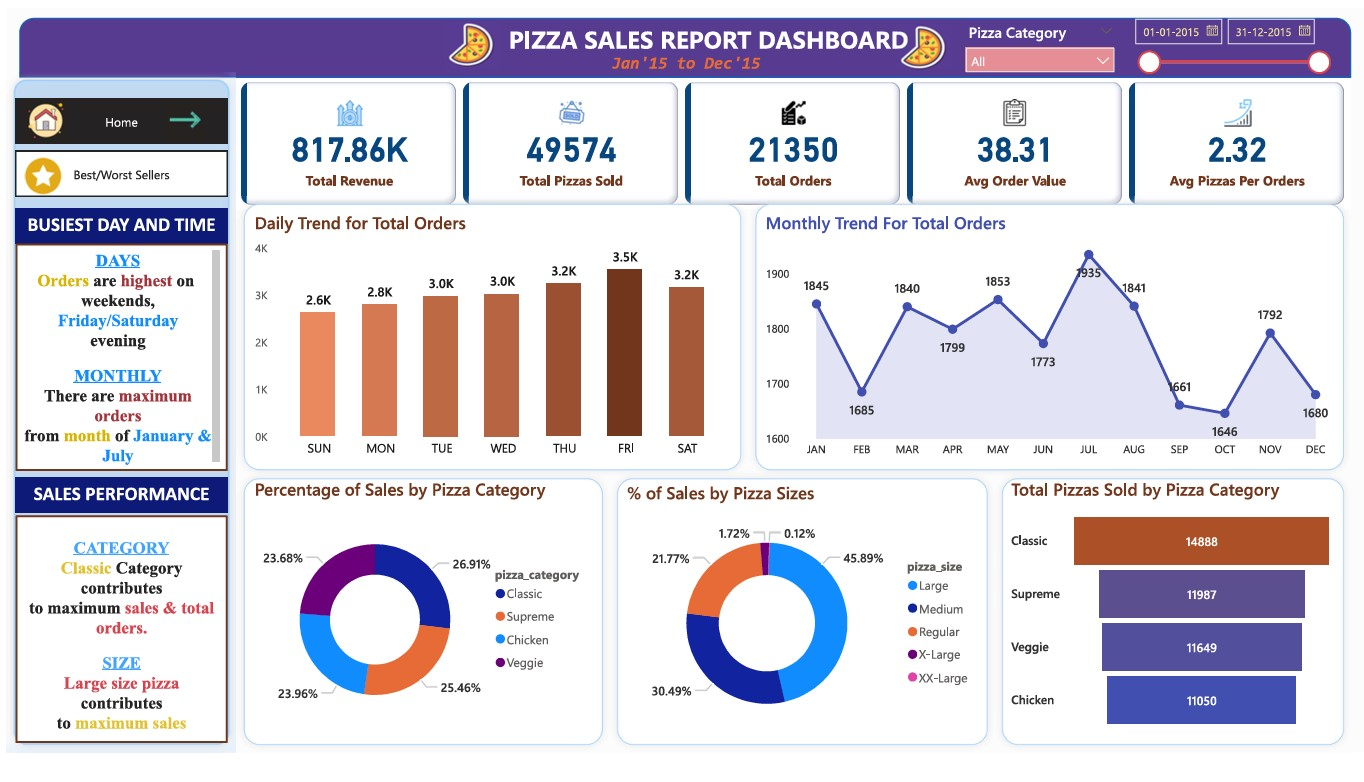

The dashboard page shown, as its layout file describes it:
{"tool":"powerbi","page":{"name":"Home","canvas":[1500,820],"ordinal":0},"visuals":[{"type":"cardVisual","fields":{"Data":["pizza_sales.Total Revenue","pizza_sales.Total Pizzas Sold","pizza_sales.Total Orders","pizza_sales.Avg Order Value","pizza_sales.Avg Pizzas Per Orders"]},"box":[254.3,75.7,1230,145.7],"z":1000},{"type":"shape","box":[14.3,10,1470,65.7],"z":2000},{"type":"textbox","box":[535.7,10,478.6,50],"z":3000},{"type":"textbox","box":[637.1,44.3,225.7,31.4],"z":4000},{"type":"image","box":[480,10,70,60],"z":5000},{"type":"image","box":[978.6,12.9,70,60],"z":6000},{"type":"shape","box":[254.3,207.1,564.3,310],"z":7000},{"type":"columnChart","title":"Daily Trend for Total Orders","fields":{"Category":["pizza_sales.Order Day"],"Y":["pizza_sales.Total Orders"]},"box":[268.6,222.9,535.7,281.4],"z":8000},{"type":"shape","box":[818.6,207.1,665.7,310],"z":9000},{"type":"shape","box":[0,70,254.3,750],"z":9500},{"type":"areaChart","title":"Monthly Trend For Total Orders","fields":{"Y":["pizza_sales.Total Orders"],"Category":["pizza_sales.Order Month"]},"box":[832.9,222.9,637.1,281.4],"z":10000},{"type":"shape","box":[254.3,510,411.4,310],"z":11000},{"type":"shape","box":[665.7,510,425.7,310],"z":12000},{"type":"shape","box":[1091.4,510,392.9,310],"z":13000},{"type":"donutChart","title":"Percentage of Sales by Pizza Category","fields":{"Category":["pizza_sales.pizza_category"],"Y":["pizza_sales.Total Revenue"]},"box":[268.6,517.1,384.3,288.6],"z":14000},{"type":"donutChart","title":"% of Sales by Pizza Sizes","fields":{"Category":["pizza_sales.pizza_size"],"Y":["pizza_sales.Total Revenue"]},"box":[680,521.4,398.6,288.6],"z":15000},{"type":"funnel","title":"Total Pizzas Sold by Pizza Category","fields":{"Category":["pizza_sales.pizza_category"],"Y":["pizza_sales.Total Pizzas Sold"]},"box":[1104.3,517.1,365.7,288.6],"z":16000},{"type":"textbox","box":[10,220,234.3,38.6],"z":21000},{"type":"textbox","box":[10,258.6,234.3,251.4],"z":21001},{"type":"textbox","box":[10,517.1,234.3,38.6],"z":21002},{"type":"textbox","box":[10,558.6,234.3,251.4],"z":21003},{"type":"slicer","fields":{"Values":["pizza_sales.pizza_category"]},"box":[1048.6,10,184.3,60],"z":21004},{"type":"slicer","fields":{"Values":["pizza_sales.order_date"]},"box":[1232.9,1.4,237.1,75.7],"z":21005},{"type":"pageNavigator","box":[10,98.6,234.3,50],"z":21006},{"type":"pageNavigator","box":[10,157.1,234.3,50],"z":21007},{"type":"image","box":[14.3,94.3,58.6,58.6],"z":21008},{"type":"image","box":[171.4,95.7,52.9,52.9],"z":21009},{"type":"image","box":[14.3,158.6,51.4,51.4],"z":21010}]}

Visuals, with their boxes on the page's 1500x820 design canvas (x1, y1, x2, y2). These are canvas units, not pixel positions in the 1364x782 screenshot, which may show the page scaled, cropped or inside an application window:
cardVisual - pizza_sales.Total Revenue x pizza_sales.Total Pizzas Sold: [left=254, top=76, right=1484, bottom=221]
shape: [left=14, top=10, right=1484, bottom=76]
textbox: [left=536, top=10, right=1014, bottom=60]
textbox: [left=637, top=44, right=863, bottom=76]
image: [left=480, top=10, right=550, bottom=70]
image: [left=979, top=13, right=1049, bottom=73]
shape: [left=254, top=207, right=819, bottom=517]
"Daily Trend for Total Orders" columnChart: [left=269, top=223, right=804, bottom=504]
shape: [left=819, top=207, right=1484, bottom=517]
shape: [left=0, top=70, right=254, bottom=820]
"Monthly Trend For Total Orders" areaChart: [left=833, top=223, right=1470, bottom=504]
shape: [left=254, top=510, right=666, bottom=820]
shape: [left=666, top=510, right=1091, bottom=820]
shape: [left=1091, top=510, right=1484, bottom=820]
"Percentage of Sales by Pizza Category" donutChart: [left=269, top=517, right=653, bottom=806]
"% of Sales by Pizza Sizes" donutChart: [left=680, top=521, right=1079, bottom=810]
"Total Pizzas Sold by Pizza Category" funnel: [left=1104, top=517, right=1470, bottom=806]
textbox: [left=10, top=220, right=244, bottom=259]
textbox: [left=10, top=259, right=244, bottom=510]
textbox: [left=10, top=517, right=244, bottom=556]
textbox: [left=10, top=559, right=244, bottom=810]
slicer - pizza_sales.pizza_category: [left=1049, top=10, right=1233, bottom=70]
slicer - pizza_sales.order_date: [left=1233, top=1, right=1470, bottom=77]
pageNavigator: [left=10, top=99, right=244, bottom=149]
pageNavigator: [left=10, top=157, right=244, bottom=207]
image: [left=14, top=94, right=73, bottom=153]
image: [left=171, top=96, right=224, bottom=149]
image: [left=14, top=159, right=66, bottom=210]
